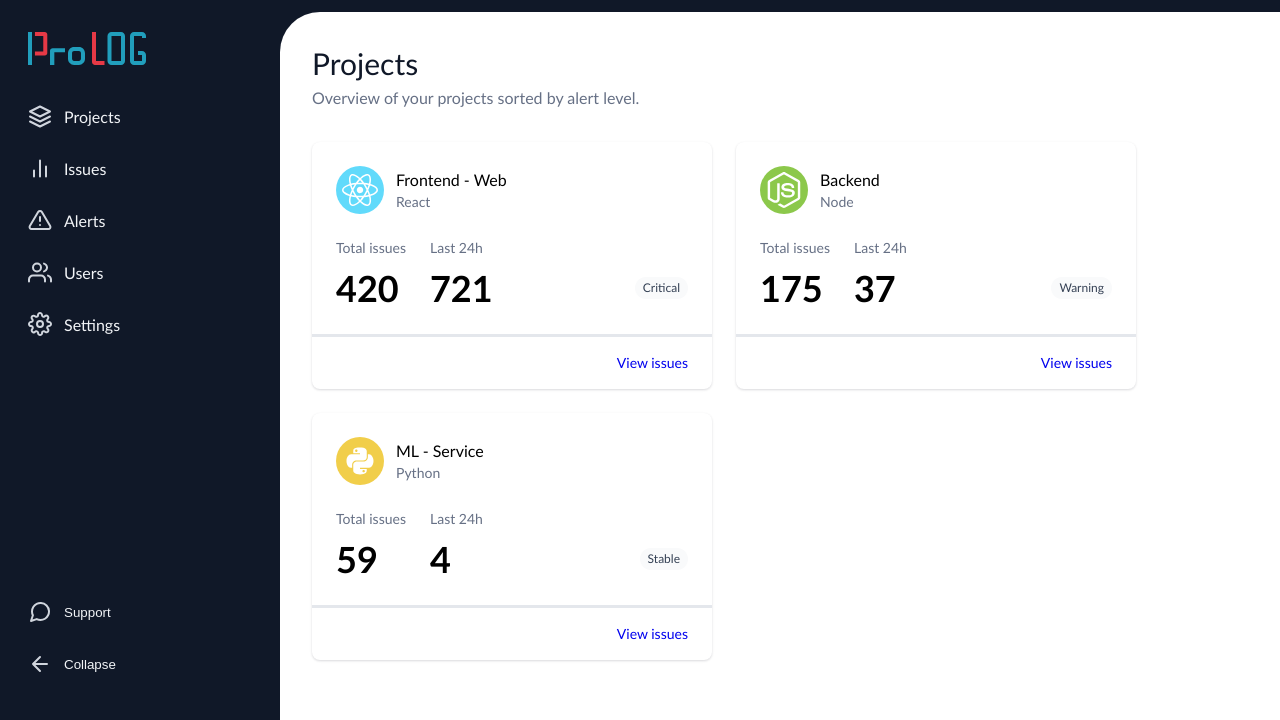
Test: Navigation Sidebar › Desktop mode › Menu collapsing works
Click the button "Collapse" at (140, 664), box [16,640,264,688]
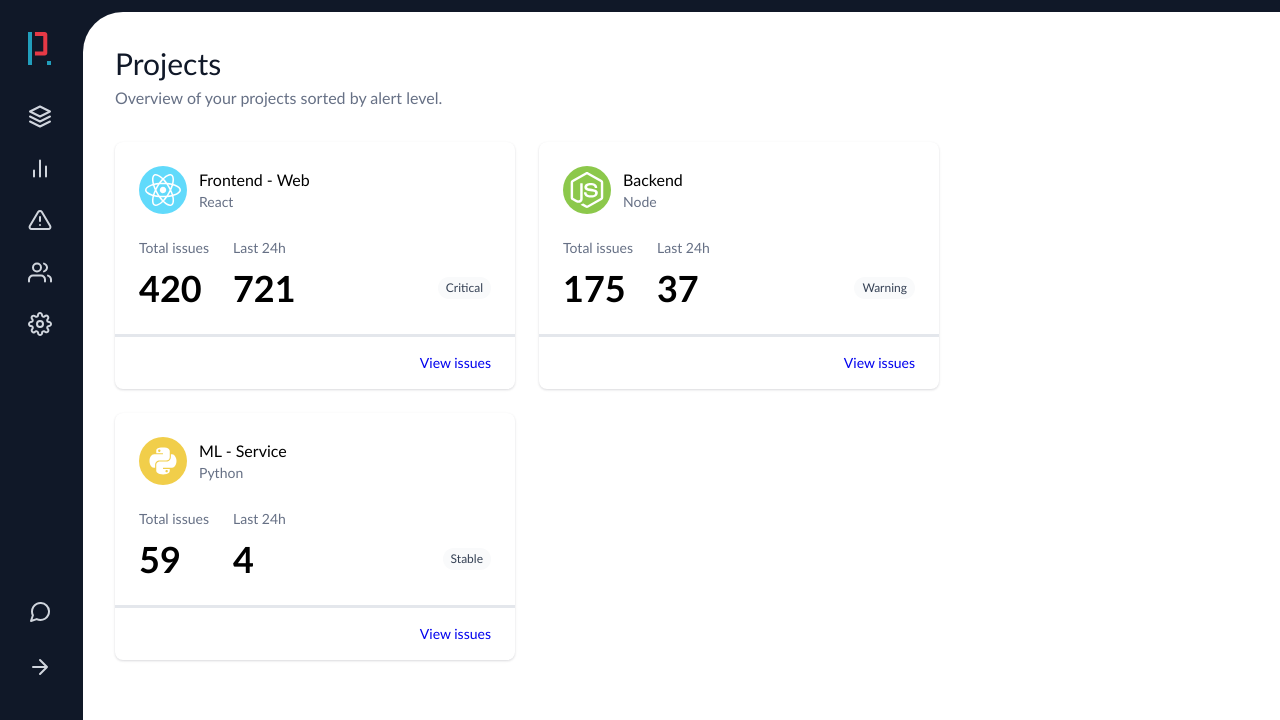
Expected: the button "Collapse" is gone
